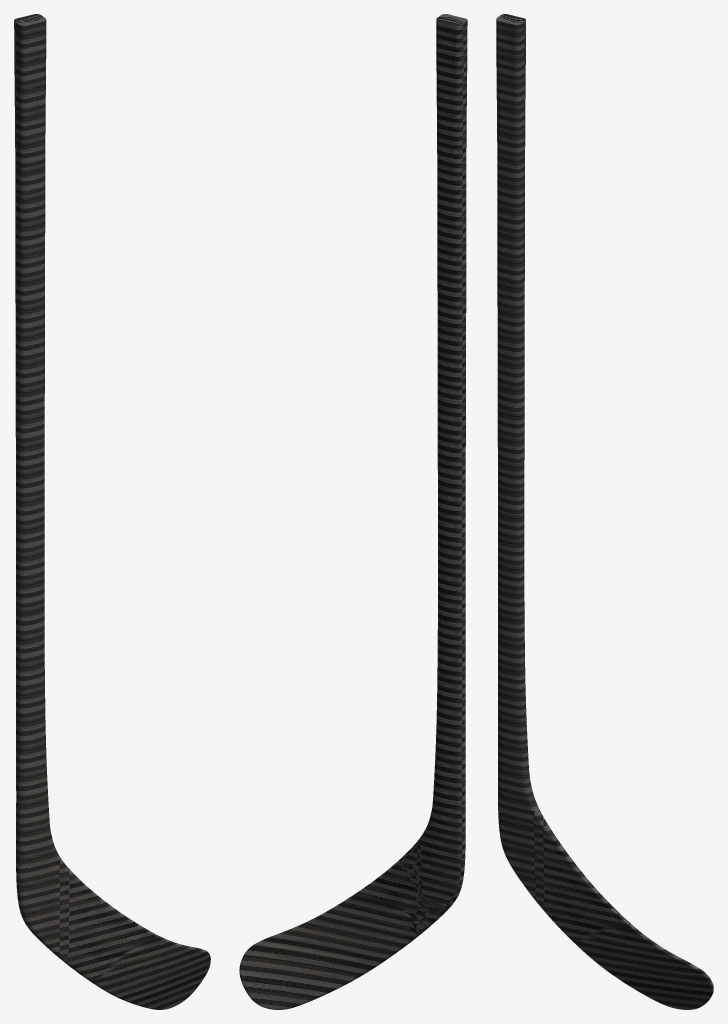
File: P92M-SBO.glb
3 views of the same model, side by side, from view 1: azimuth 30°, elevation 25°; view 2: azimuth 150°, elevation 25°; view 3: azimuth 330°, elevation 25° (orthographic). The views are drawn at different scales.
Parts seen in each view (by area): view 1: geometry_0; view 2: geometry_0; view 3: geometry_0.
Boxes of the visible parts, box(x1,y1,x2,y2) form: geometry_0: box(14, 14, 210, 1009); geometry_0: box(239, 14, 467, 1009); geometry_0: box(496, 14, 713, 1009).
Size of the model in its own units: 241 by 1135 by 56.13.
1 material, 1 textured.
